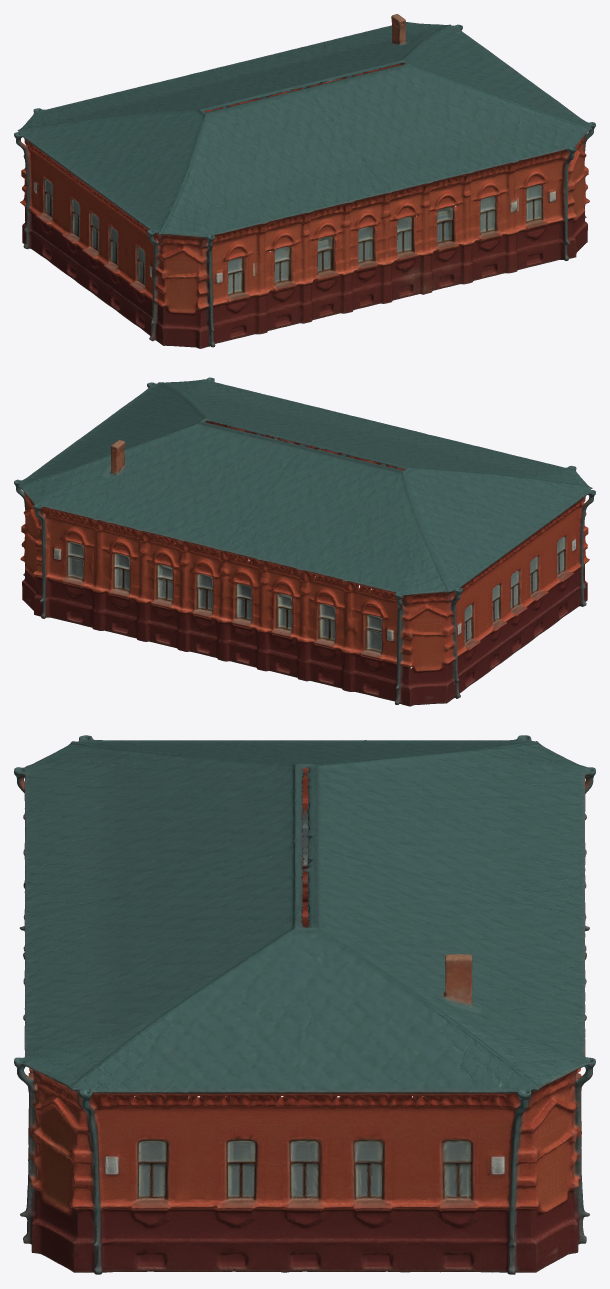
Rendered from Meshy_AI_Red_Brick_Heritage_Ho_1017085743_texture.glb.
3 views of the same model, one above another, from view 1: azimuth 30°, elevation 25°; view 2: azimuth 150°, elevation 25°; view 3: azimuth 270°, elevation 25° (orthographic). The views are drawn at different scales.
Size of the model in its own units: 1.9 by 0.6375 by 1.3.
1 material, 1 textured.
